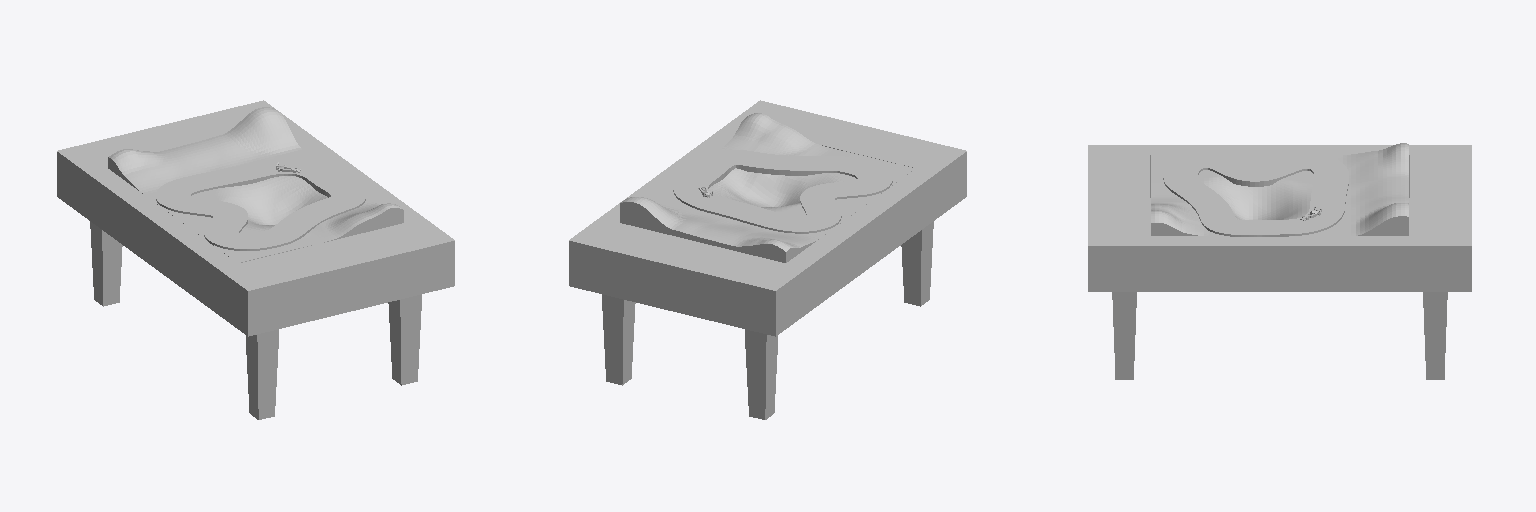
The model's file is NewestTisch14.obj.
3 views of the same model, side by side, from view 1: azimuth 30°, elevation 25°; view 2: azimuth 150°, elevation 25°; view 3: azimuth 270°, elevation 25° (orthographic).
Parts seen in each view (by area): view 1: Tischplatte_wood_table_001, Landschaft_aerial_grass_rock, off, Bein1_wood_table_001, Bein4_wood_table_001.003, Bein3_wood_table_001.002; view 2: Tischplatte_wood_table_001, Landschaft_aerial_grass_rock, off, Bein2_wood_table_001.001, Bein3_wood_table_001.002, Bein4_wood_table_001.003; view 3: Tischplatte_wood_table_001, Landschaft_aerial_grass_rock, off, Bein1_wood_table_001, Bein2_wood_table_001.001.
Boxes of the visible parts, box(x1,y1,x2,y2) form: Tischplatte_wood_table_001: box(57, 100, 454, 336); Landschaft_aerial_grass_rock: box(108, 107, 403, 262); off: box(156, 159, 365, 250); Bein1_wood_table_001: box(388, 294, 421, 385); Bein4_wood_table_001.003: box(246, 329, 278, 419); Bein3_wood_table_001.002: box(90, 221, 122, 306); Tischplatte_wood_table_001: box(569, 100, 966, 336); Landschaft_aerial_grass_rock: box(620, 113, 915, 262); off: box(673, 150, 892, 233); Bein2_wood_table_001.001: box(602, 294, 635, 385); Bein3_wood_table_001.002: box(745, 329, 777, 419); Bein4_wood_table_001.003: box(901, 221, 933, 306); Tischplatte_wood_table_001: box(1088, 145, 1471, 291); Landschaft_aerial_grass_rock: box(1151, 143, 1408, 235); off: box(1163, 153, 1348, 236); Bein1_wood_table_001: box(1112, 292, 1136, 379); Bein2_wood_table_001.001: box(1423, 292, 1447, 379).
Bounding box in the file's own units: 5 × 3.91 × 8.